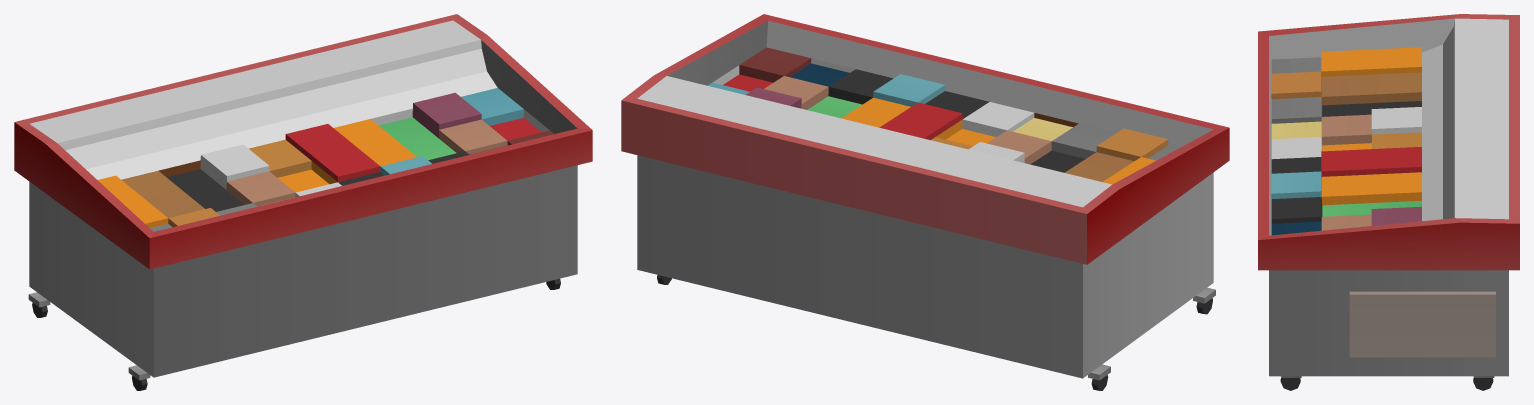
File: B03_Congel_XL01.fbx
3 views of the same model, side by side, from view 1: azimuth 30°, elevation 25°; view 2: azimuth 150°, elevation 25°; view 3: azimuth 270°, elevation 25° (orthographic). The views are drawn at different scales.
Parts seen in each view (by area): view 1: B03_Congel_XL01; view 2: B03_Congel_XL01; view 3: B03_Congel_XL01.
Part boxes in pixels (x1,y1,x2,y2): B03_Congel_XL01: (14, 14, 592, 390); B03_Congel_XL01: (621, 14, 1229, 390); B03_Congel_XL01: (1258, 14, 1519, 390).
Bounding box in the file's own units: 417 × 166 × 221.
